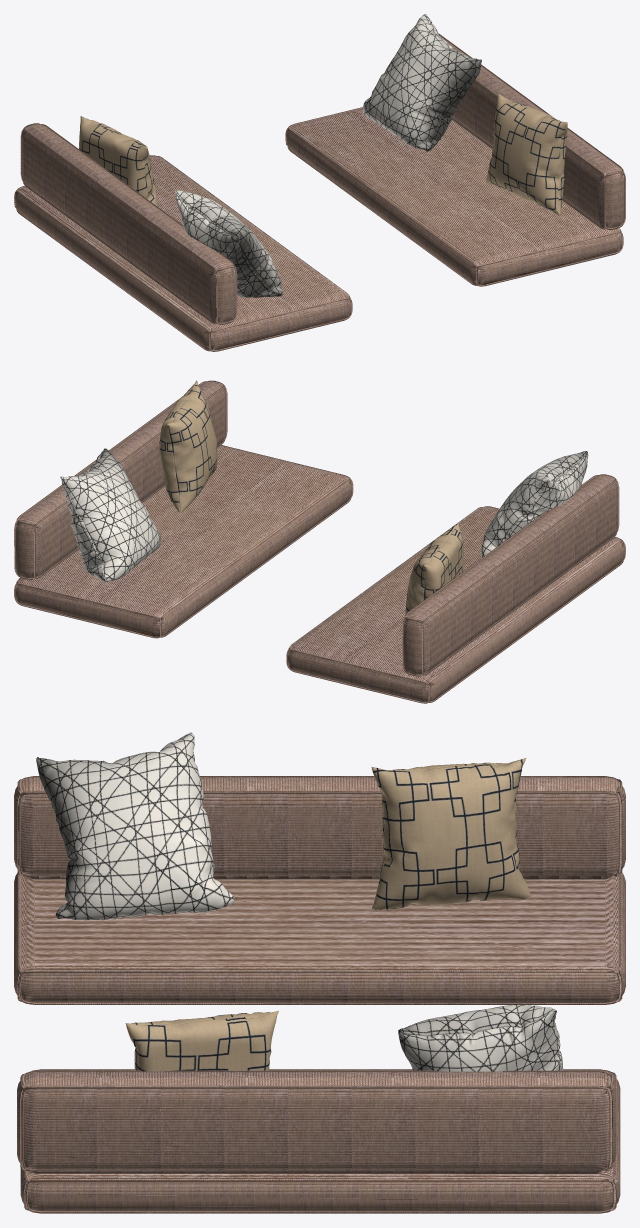
File: cushion-four.glb
3 renders of one model, top to bottom at view 1: azimuth 30°, elevation 25°; view 2: azimuth 150°, elevation 25°; view 3: azimuth 270°, elevation 25°, orthographic. The views are drawn at different scales.
Parts seen in each view (by area): view 1: trunk_part_39.001; view 2: trunk_part_39.001; view 3: trunk_part_39.001.
Part boxes in pixels (x1=…): trunk_part_39.001: x1=14, y1=14, x2=625, y2=351; trunk_part_39.001: x1=14, y1=380, x2=625, y2=703; trunk_part_39.001: x1=14, y1=732, x2=625, y2=1213.
Bounding box in the file's own units: 1.71 × 0.4689 × 1.39.
3 materials, 3 textured.
